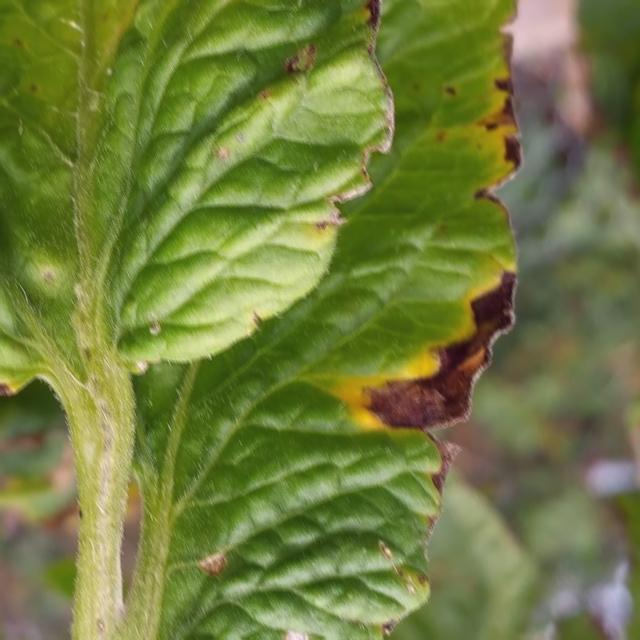Tomato leaf bacterial spot: (81, 0, 567, 640), (0, 0, 405, 437)
